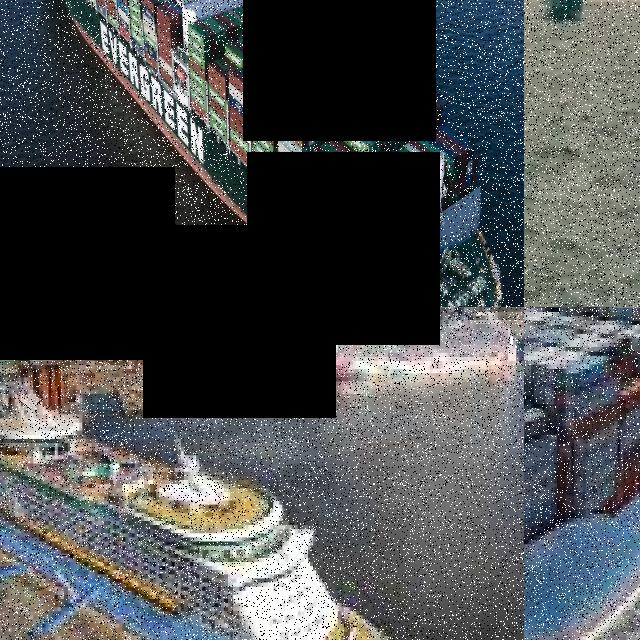boat: (525, 1, 640, 308), (525, 1, 557, 51), (525, 1, 543, 57), (525, 1, 543, 53), (525, 1, 544, 44)
cargo ship: (23, 1, 525, 308), (525, 308, 640, 640)
cruise ship: (1, 361, 419, 640), (301, 308, 525, 405)
warship: (531, 1, 606, 48)
